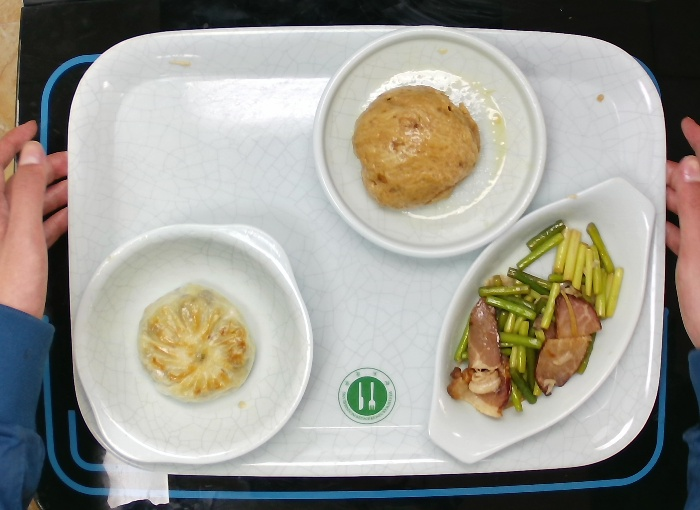JYsf-Shuang_Er_Wan: (67, 217, 318, 468)
JYsf-Xiao_Yuan_Pan: (308, 22, 551, 261)
JYsf-Yu_Pan: (423, 173, 661, 469)
